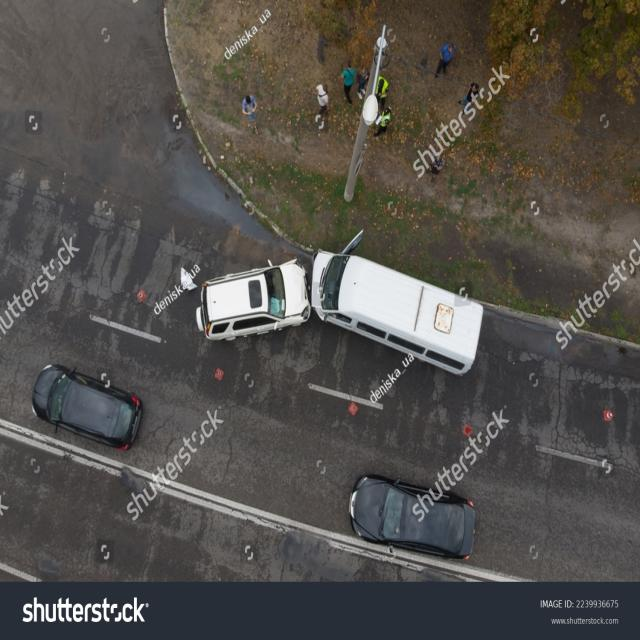Accident: (184, 237, 494, 406)
